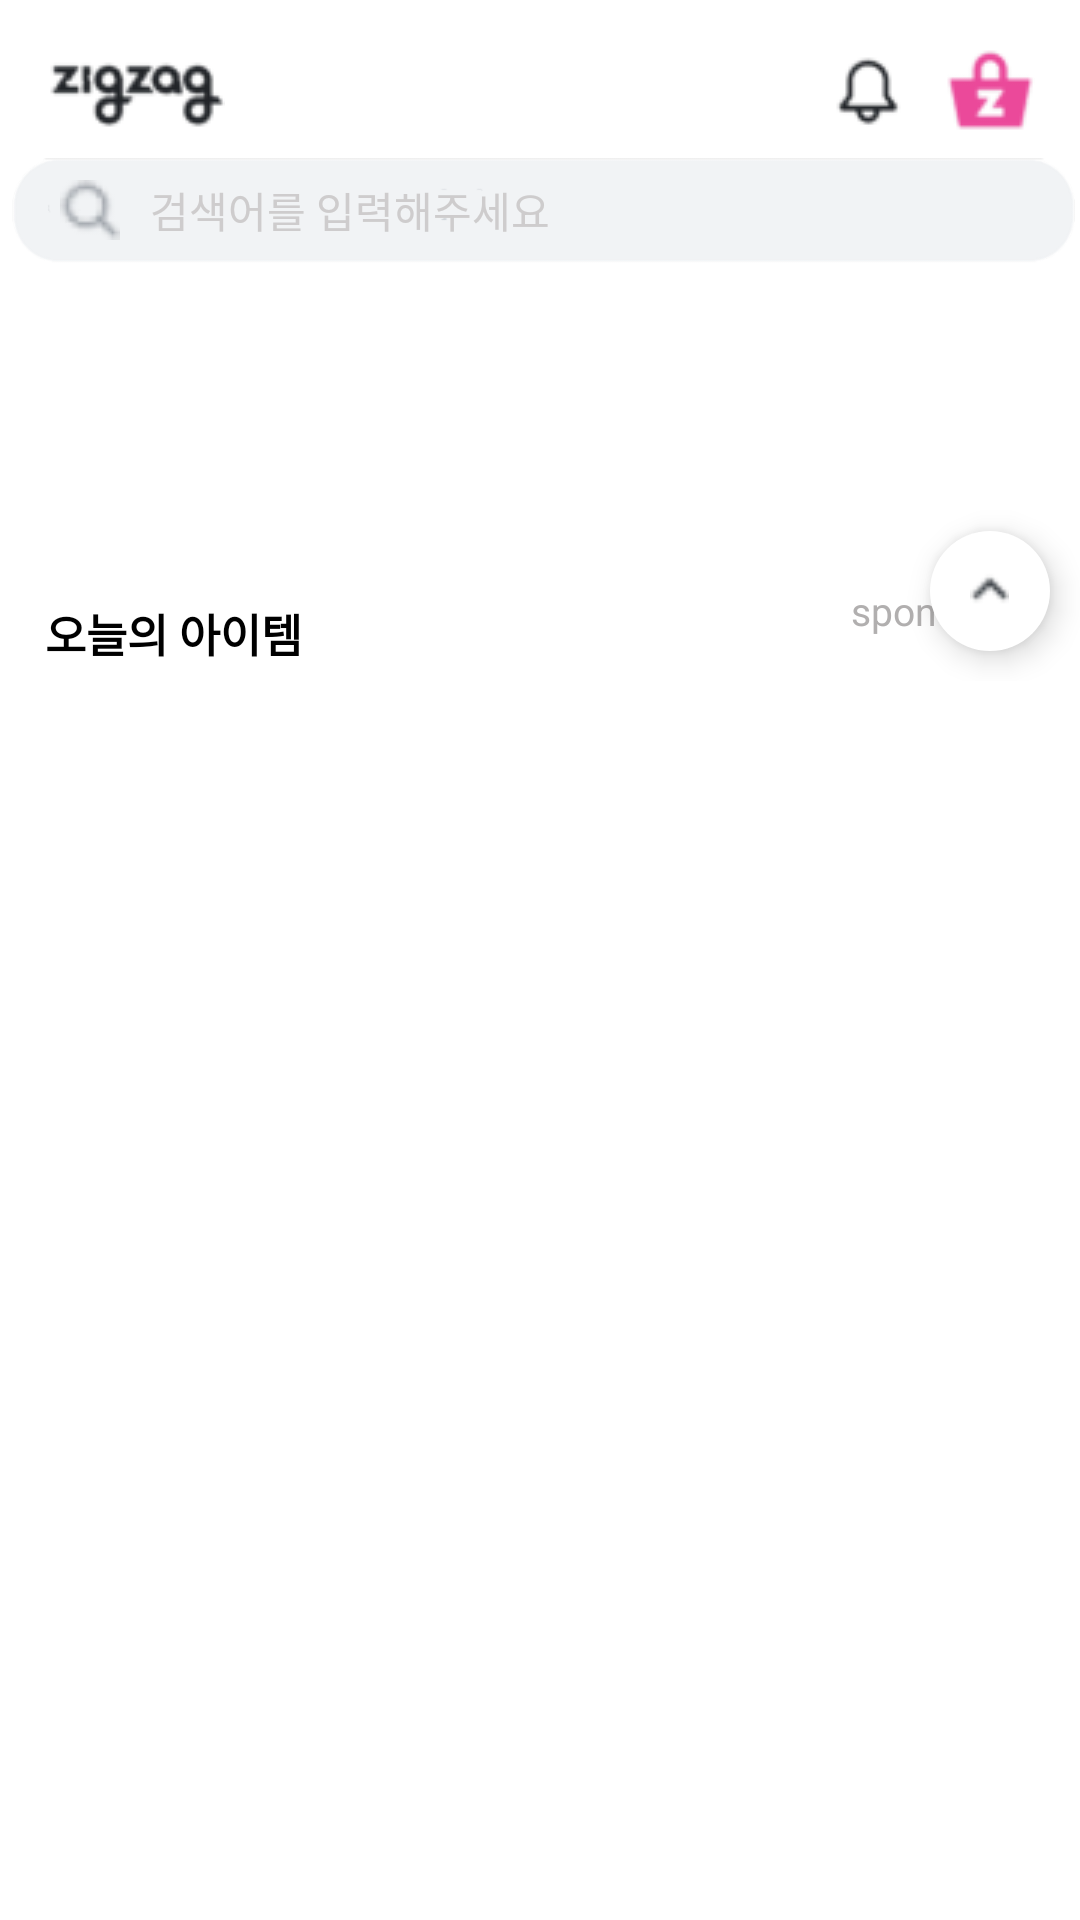

Where icons sit on this 1080 × 1920 app screen, as (x1, y1, x2, y2):
bucket: (948, 51, 1032, 129)
